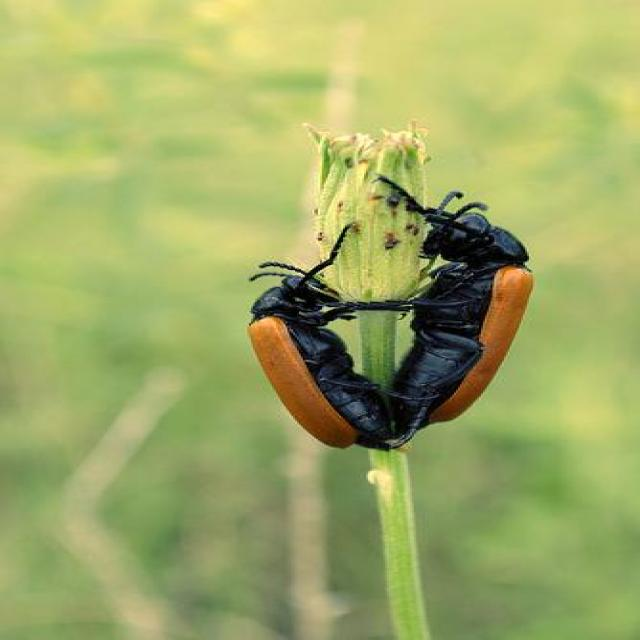BlisterBeetle-Adult-: (369, 163, 541, 460), (232, 209, 399, 471)
